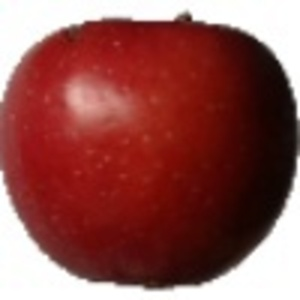maçã braeburn: (1, 11, 299, 291)
